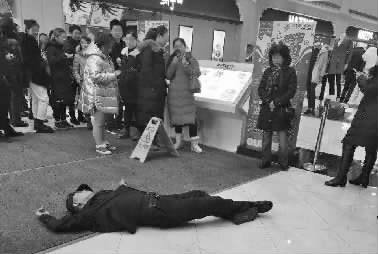10+: (2, 6, 373, 225)
down: (32, 182, 283, 236)
